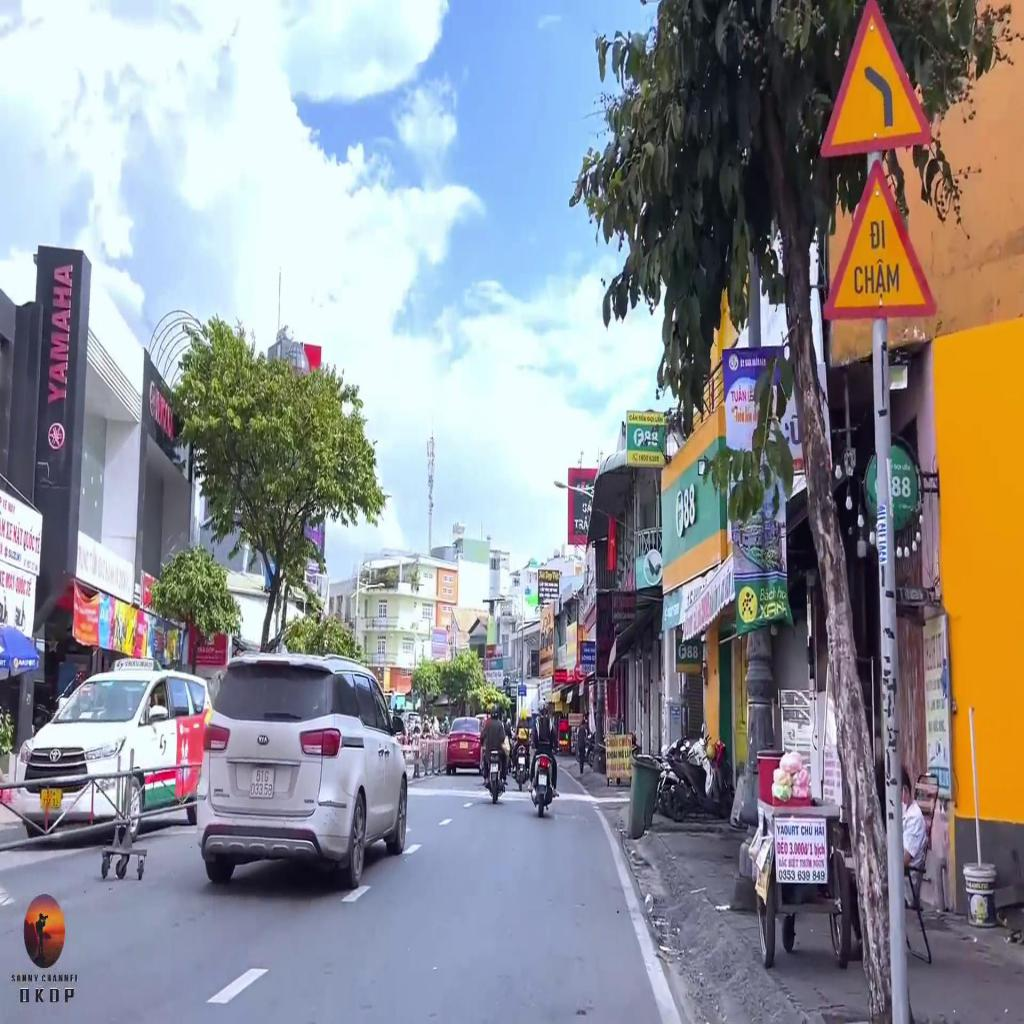cho_ngoat_nguy_hiem_ben_trai: (820, 2, 932, 152)
di_cham: (820, 158, 941, 317)
